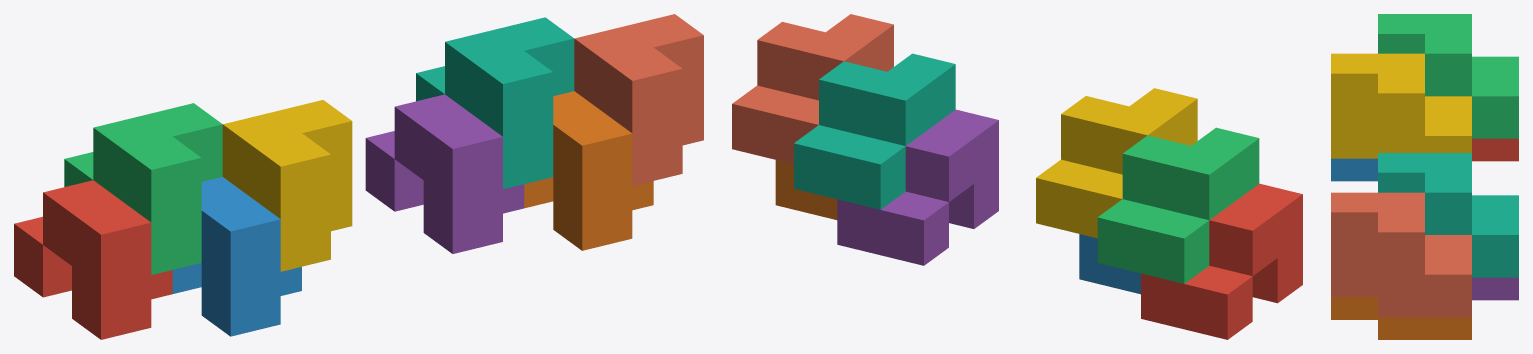
Rendered from tiling.obj.
3 views of the same model, side by side, from view 1: azimuth 30°, elevation 25°; view 2: azimuth 150°, elevation 25°; view 3: azimuth 270°, elevation 25° (orthographic). The views are drawn at different scales.
Parts seen in each view (by area): view 1: copy_1_domain_5, copy_1_domain_1, copy_1_domain_4, copy_1_domain_8, copy_1_domain_7, copy_1_domain_3, copy_1_domain_2, copy_1_domain_6; view 2: copy_1_domain_3, copy_1_domain_7, copy_1_domain_1, copy_1_domain_5, copy_1_domain_4, copy_1_domain_8, copy_1_domain_6, copy_1_domain_2; view 3: copy_1_domain_8, copy_1_domain_4, copy_1_domain_3, copy_1_domain_7, copy_1_domain_6, copy_1_domain_1, copy_1_domain_2, copy_1_domain_5.
Part boxes in pixels (x1,y1,x2,y2): copy_1_domain_5: (365,94,524,253); copy_1_domain_1: (14,180,172,339); copy_1_domain_4: (222,100,352,271); copy_1_domain_8: (574,14,703,185); copy_1_domain_7: (416,17,574,189); copy_1_domain_3: (64,103,222,274); copy_1_domain_2: (172,177,301,336); copy_1_domain_6: (524,91,653,250); copy_1_domain_3: (1097,127,1259,283); copy_1_domain_7: (794,53,955,209); copy_1_domain_1: (1141,183,1302,339); copy_1_domain_5: (837,109,998,265); copy_1_domain_4: (1036,88,1197,238); copy_1_domain_8: (732,14,893,164); copy_1_domain_6: (775,160,837,219); copy_1_domain_2: (1079,234,1140,294); copy_1_domain_8: (1331,192,1471,317); copy_1_domain_4: (1331,53,1471,158); copy_1_domain_3: (1378,14,1518,138); copy_1_domain_7: (1378,153,1518,277); copy_1_domain_6: (1331,297,1471,339); copy_1_domain_1: (1472,138,1518,161); copy_1_domain_2: (1331,158,1377,181); copy_1_domain_5: (1472,277,1518,300).
Bounding box in the file's own units: 12 × 3 × 4.
